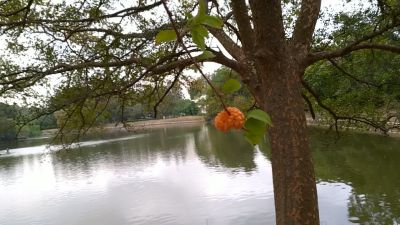eggs: (213, 106, 247, 133)
